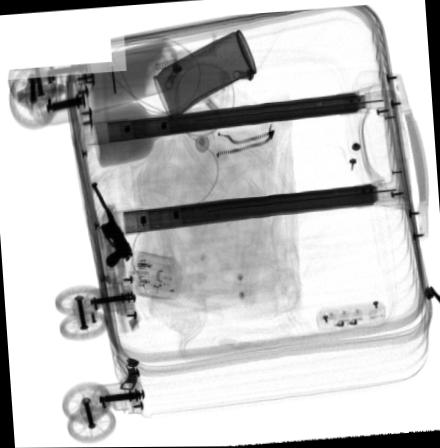Gun: (91, 182, 134, 268)
